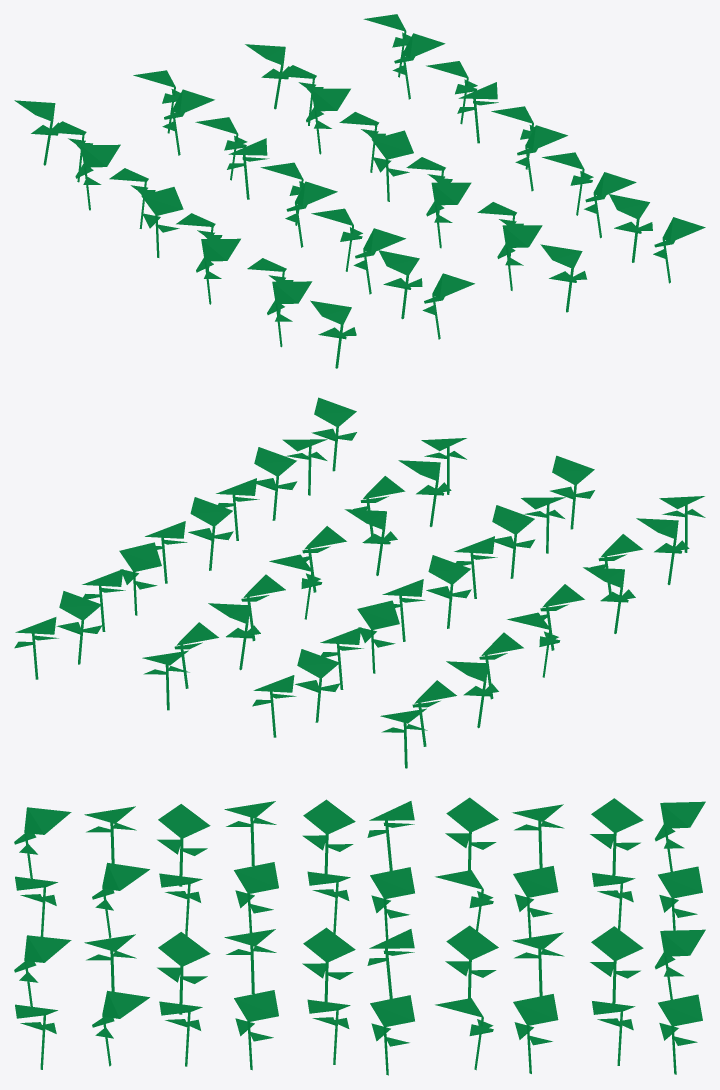
File: plans01.fbx
The picture shows the model from 3 angles, top to bottom: view 1: azimuth 30°, elevation 25°; view 2: azimuth 150°, elevation 25°; view 3: azimuth 270°, elevation 25°; orthographic projection. The views are drawn at different scales.
Visible parts, largest first — view 1: plants01; view 2: plants01; view 3: plants01.
Part boxes in pixels (bbox=[...]): plants01: bbox=[14, 14, 705, 368]; plants01: bbox=[14, 397, 705, 768]; plants01: bbox=[14, 797, 705, 1075].
Bounding box in the file's own units: 37.41 × 5.11 × 48.42.
